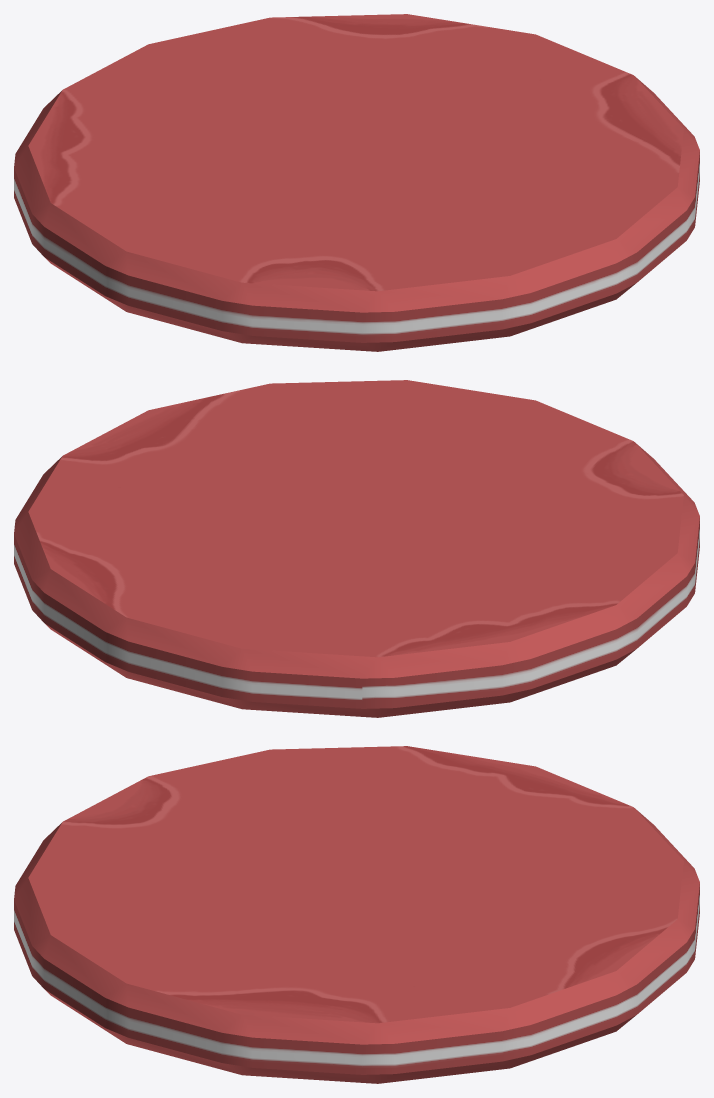
Rendered from Moving_Float_One.fbx.
The picture shows the model from 3 angles, top to bottom: view 1: azimuth 30°, elevation 25°; view 2: azimuth 150°, elevation 25°; view 3: azimuth 270°, elevation 25°; orthographic projection.
Parts seen in each view (by area): view 1: Platform_Four:pCylinder1; view 2: Platform_Four:pCylinder1; view 3: Platform_Four:pCylinder1.
Part boxes in pixels (x1=…): Platform_Four:pCylinder1: x1=14, y1=14, x2=699, y2=351; Platform_Four:pCylinder1: x1=14, y1=380, x2=699, y2=717; Platform_Four:pCylinder1: x1=14, y1=746, x2=699, y2=1083.
Size of the model in its own units: 1.22 by 0.1192 by 1.22.
